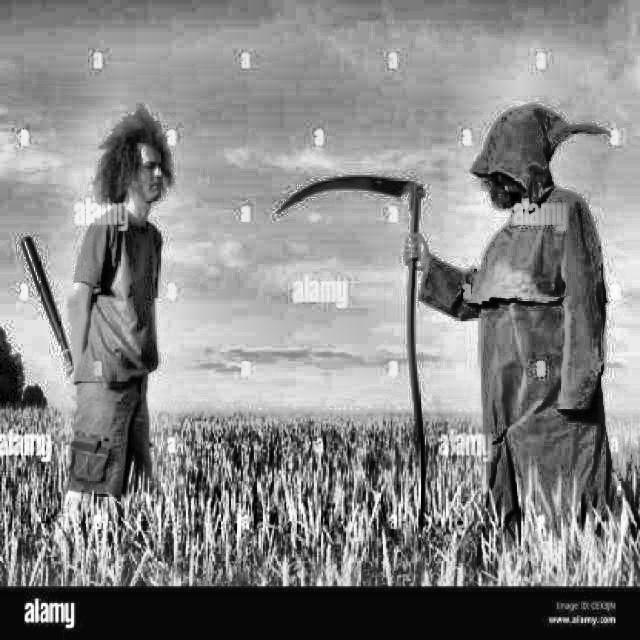tongkat pemukul: (13, 228, 99, 418)
